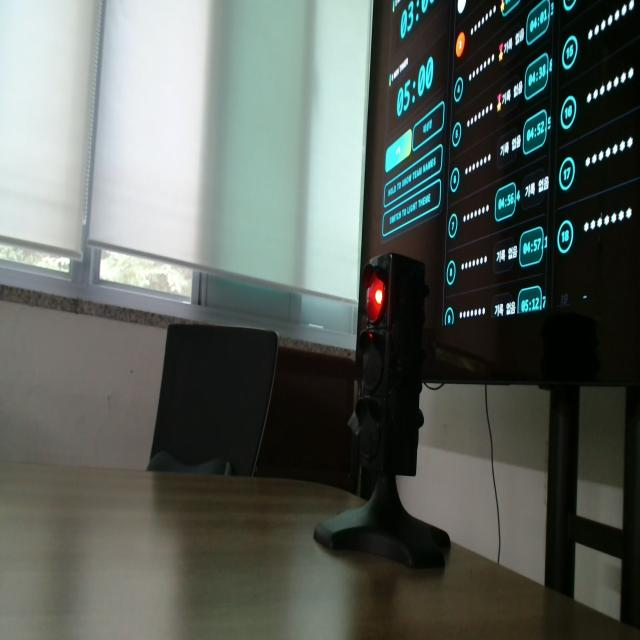red_light: (367, 274, 384, 322)
